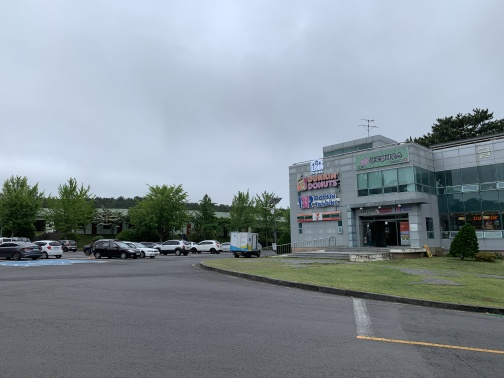Global House: (280, 126, 503, 257)
